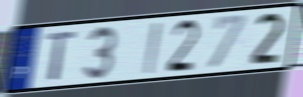2: (166, 18, 201, 75), (250, 12, 285, 66)
3: (82, 24, 119, 82)
7: (209, 13, 248, 72)
I: (143, 21, 162, 76)
T: (45, 29, 78, 82)
